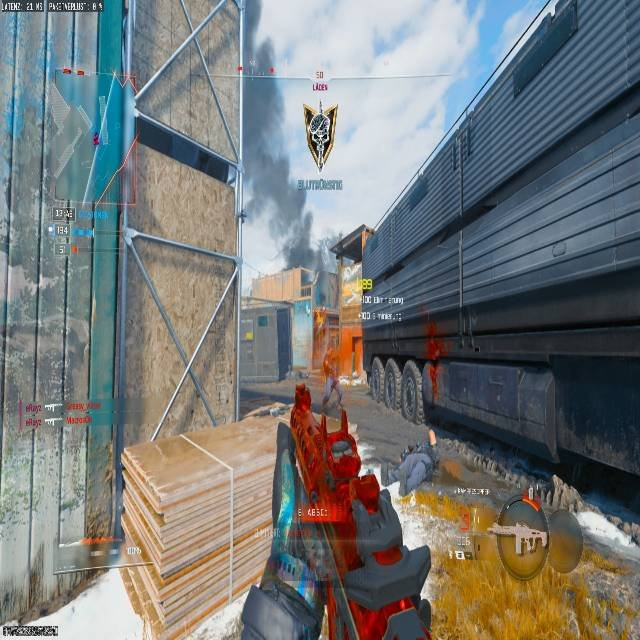player: (318, 362, 343, 419)
